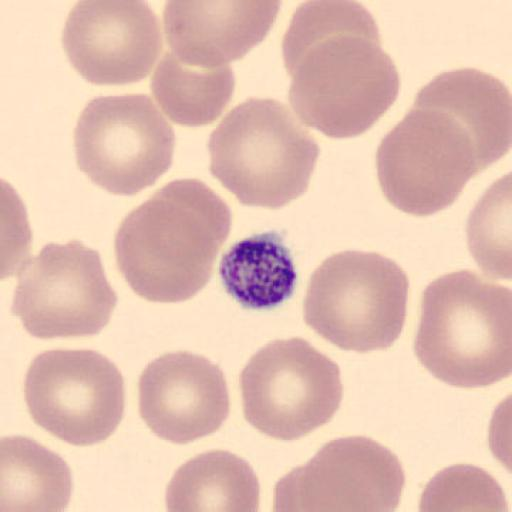Platelet: (217, 230, 301, 312)
RBC: (206, 92, 322, 211), (113, 195, 228, 307), (286, 33, 402, 140), (412, 266, 511, 390), (301, 247, 412, 357), (237, 336, 346, 443), (10, 236, 118, 342), (374, 106, 476, 218), (71, 92, 178, 198), (409, 65, 511, 175), (21, 346, 127, 448), (136, 348, 231, 446), (60, 0, 164, 89), (281, 0, 385, 87), (161, 0, 284, 68), (306, 432, 408, 512), (138, 176, 233, 252), (150, 46, 237, 128), (162, 445, 262, 512), (2, 433, 75, 512), (465, 168, 512, 282), (270, 460, 370, 512), (417, 460, 509, 512), (0, 176, 33, 285), (486, 389, 512, 476)
